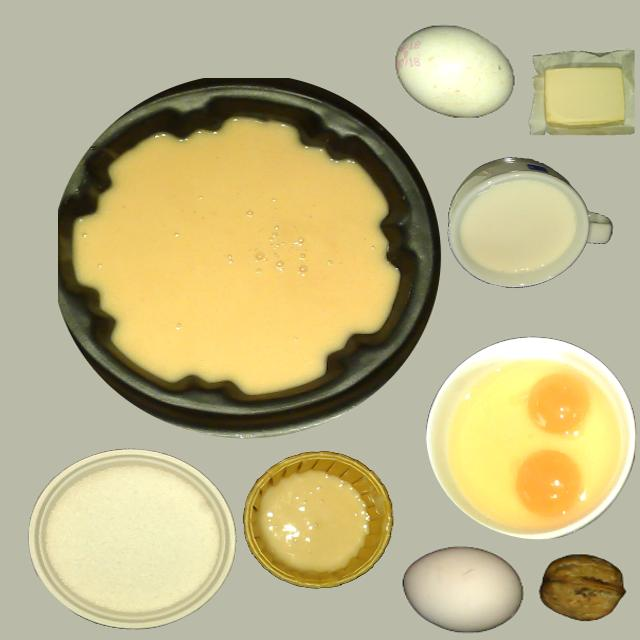Egg: (515, 449, 582, 516), (526, 372, 592, 434)
Milk: (462, 182, 574, 274)
Sugar: (28, 448, 234, 630)
Walnut: (538, 555, 624, 621)
